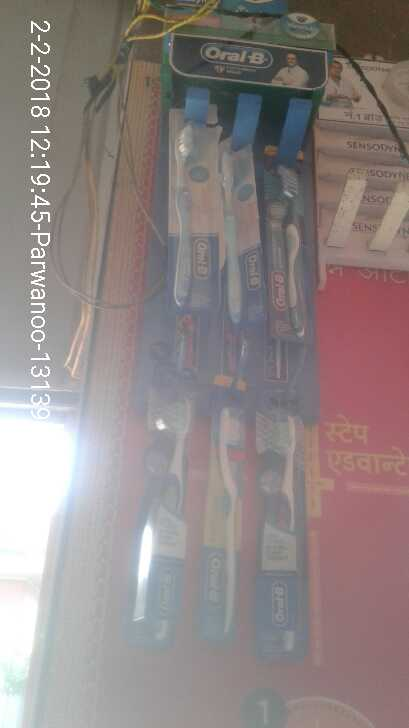oralb: (254, 404, 316, 660), (126, 367, 181, 638), (255, 131, 318, 345), (203, 401, 255, 644), (165, 113, 216, 316), (212, 135, 257, 332)
